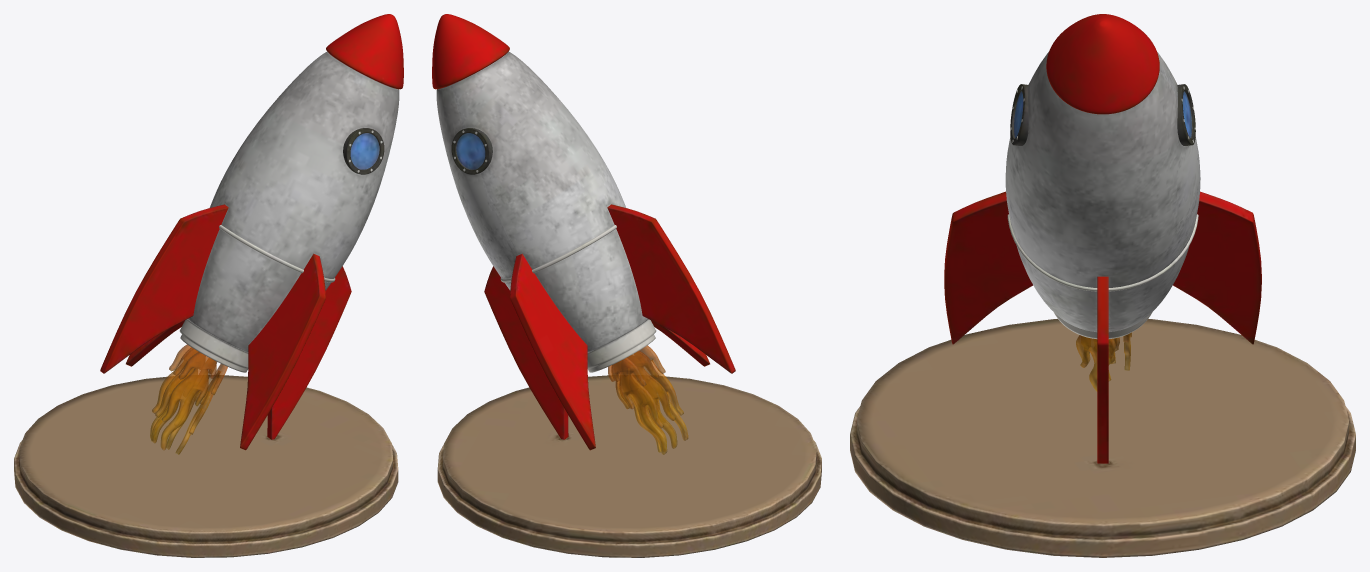
Rendered from toy2.glb.
3 renders of one model, left to right at view 1: azimuth 30°, elevation 25°; view 2: azimuth 150°, elevation 25°; view 3: azimuth 270°, elevation 25°, orthographic. The views are drawn at different scales.
Parts seen in each view (by area): view 1: defaultMaterial (×7); view 2: defaultMaterial (×7); view 3: defaultMaterial (×6).
Part boxes in pixels (x1,y1,x2,y2): defaultMaterial (×7): (14,14,403,557); defaultMaterial (×7): (432,14,821,557); defaultMaterial (×6): (850,14,1355,557).
Bounding box in the file's own units: 1.8 × 2 × 1.67.
Materials: 7 (7 with a texture image).
